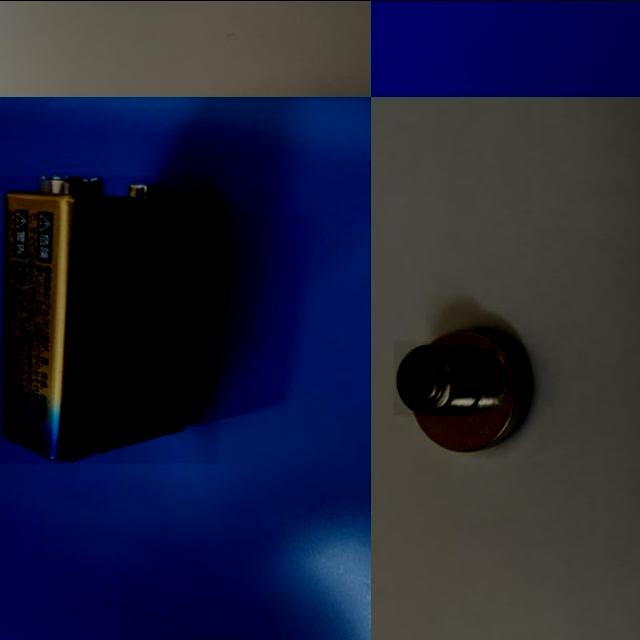9V: (0, 175, 219, 463)
